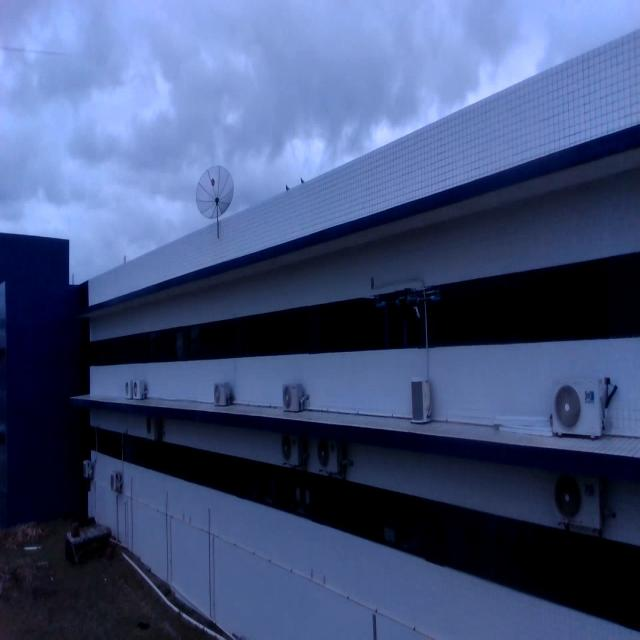-uav-: (368, 276, 448, 379)
